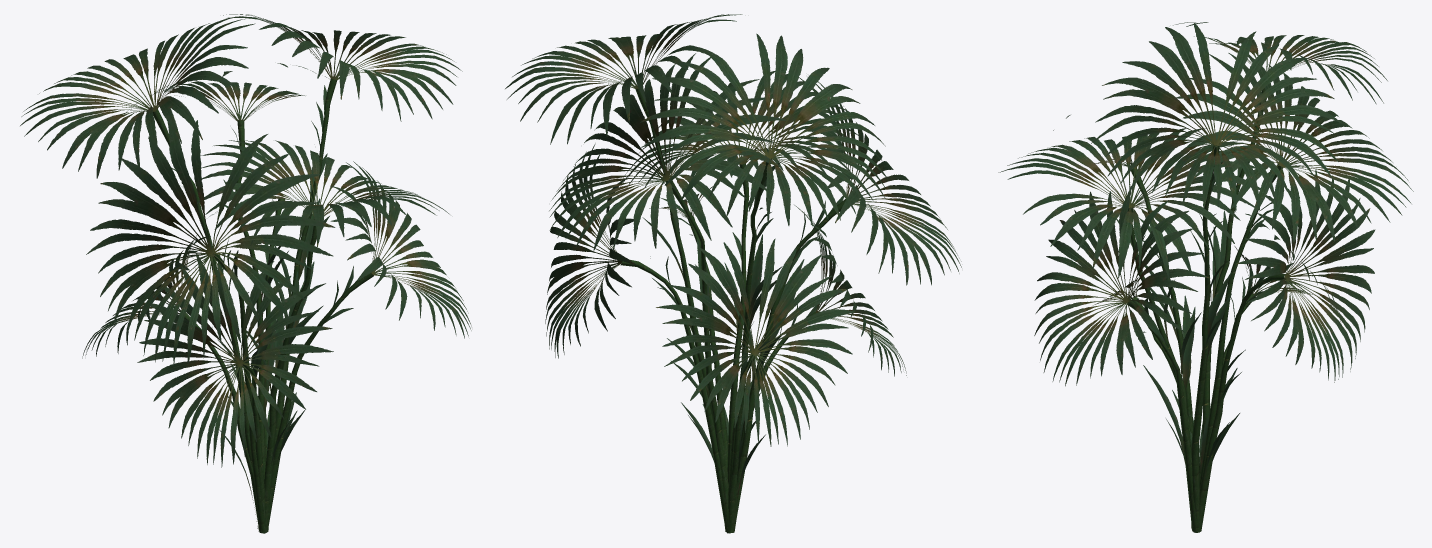
File: Plant - Alien Plant 01 1-ClKkqKn2.glb
3 renders of one model, left to right at view 1: azimuth 30°, elevation 25°; view 2: azimuth 150°, elevation 25°; view 3: azimuth 270°, elevation 25°, orthographic.
Parts seen in each view (by area): view 1: Plant1_1(Clone); view 2: Plant1_1(Clone); view 3: Plant1_1(Clone).
Part boxes in pixels (bbox=[...]): Plant1_1(Clone): bbox=[20, 14, 471, 533]; Plant1_1(Clone): bbox=[505, 14, 961, 533]; Plant1_1(Clone): bbox=[998, 22, 1413, 532].
Size of the model in its own units: 4.68 by 5.83 by 4.39.
2 materials, 2 textured.
